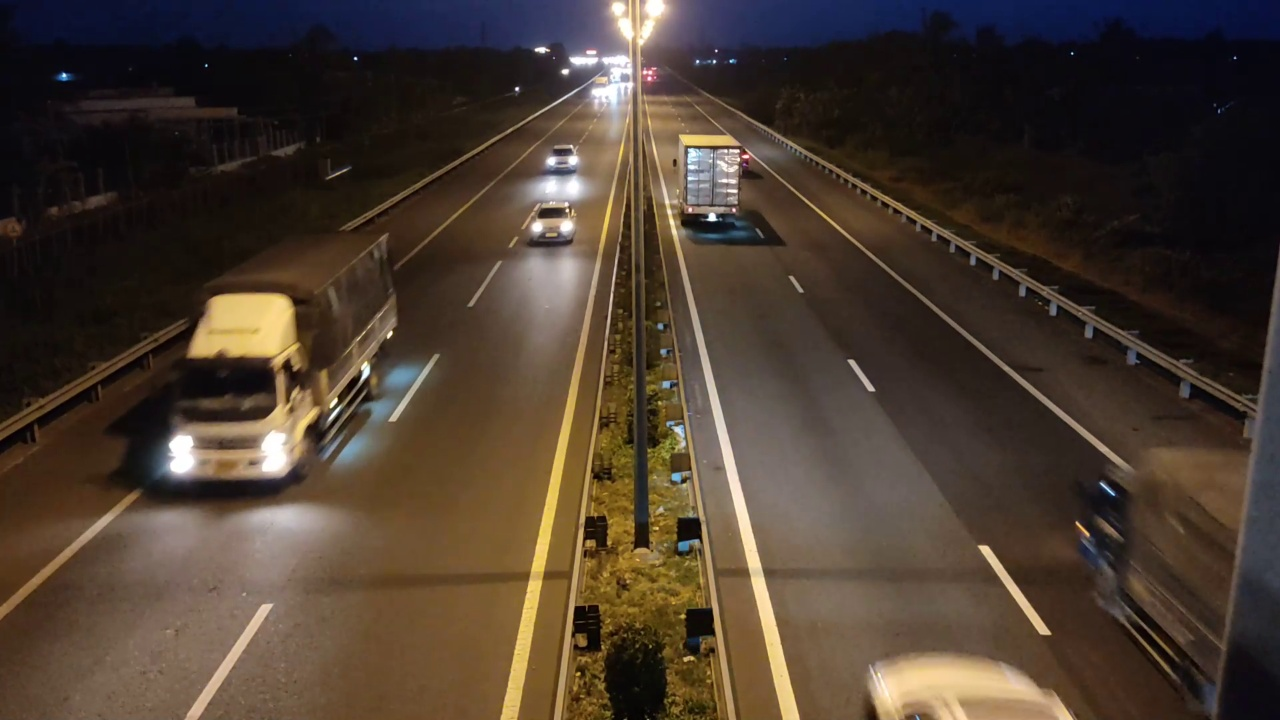car: (863, 651, 1076, 719), (525, 201, 577, 246), (545, 143, 581, 174)
truck: (136, 229, 399, 495), (675, 132, 743, 224)
